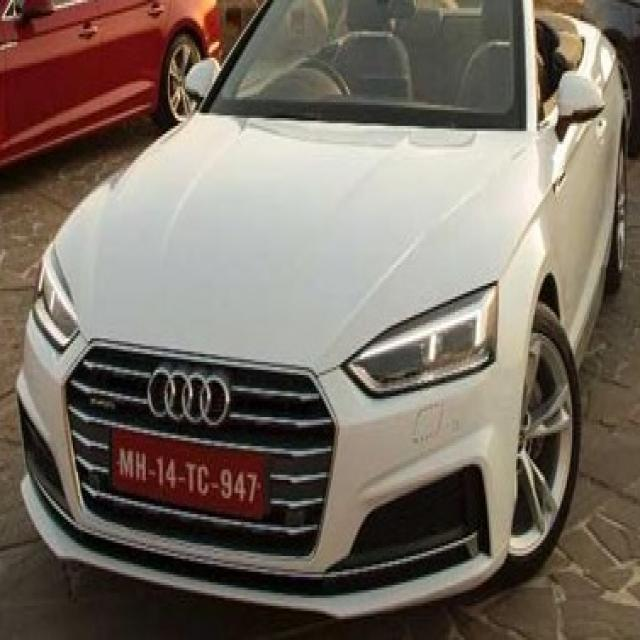license_plate: (105, 418, 268, 525)
